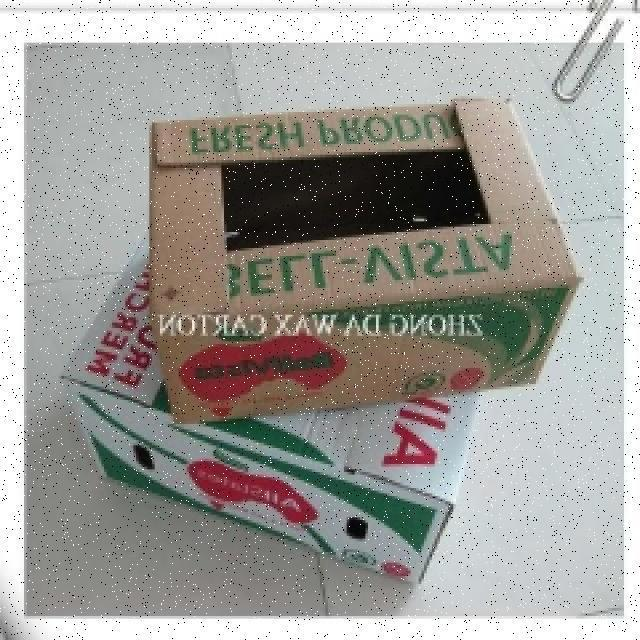box: (148, 90, 569, 396), (34, 318, 506, 566)
